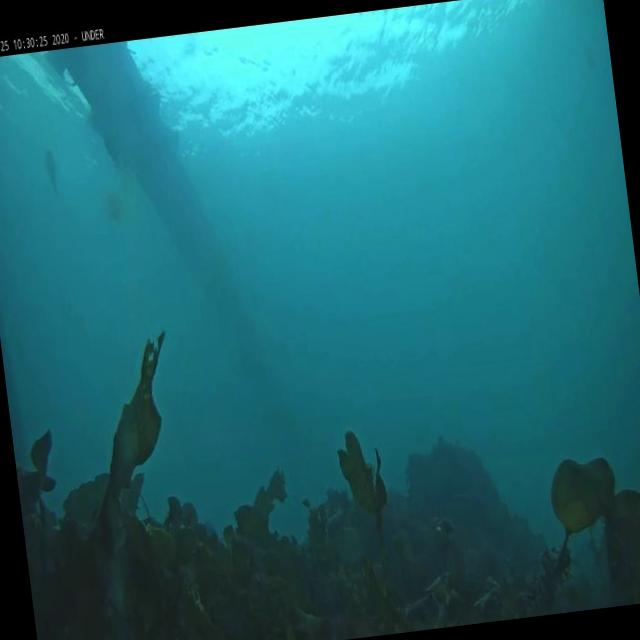fish: (103, 130, 131, 180), (42, 148, 62, 194)
